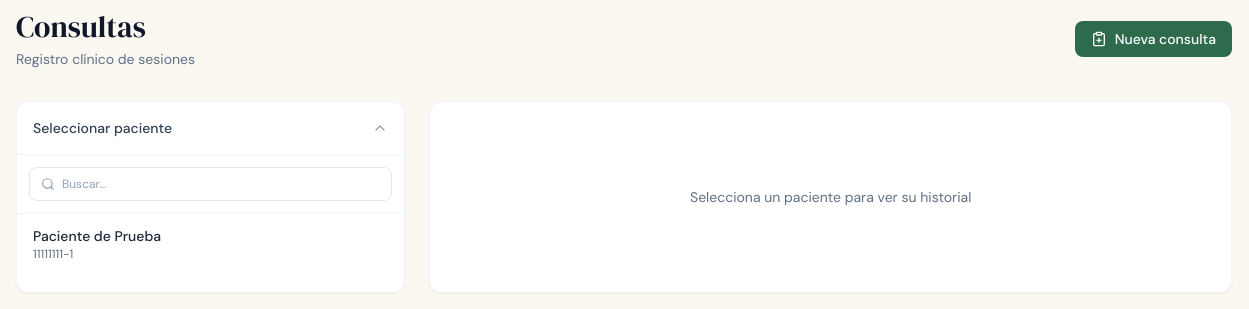
ConsultationsPage › si falla la carga de consultas no muestra "Sin consultas registradas"
The width and height of the screenshot is (1249, 309).
Click the text "Paciente de Prueba" at (97, 236), box [33,227,161,245]
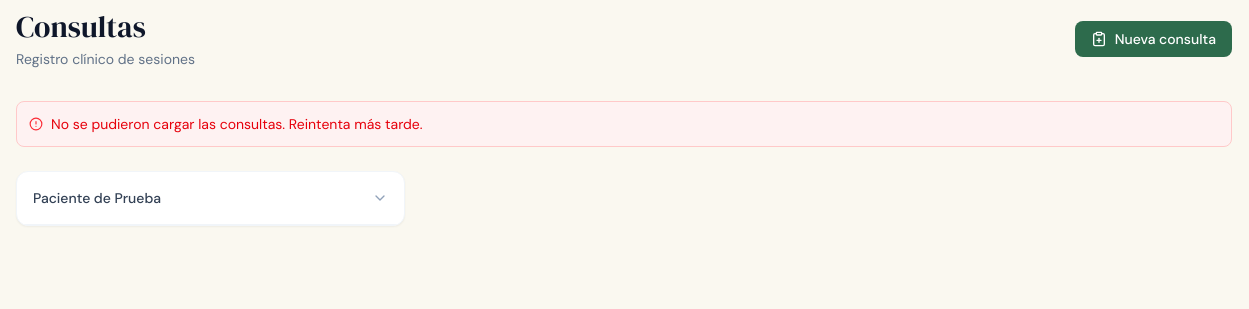
Expected: the text "No se pudieron cargar las consultas. Reintenta más tarde." is shown, [51,114,423,134]
